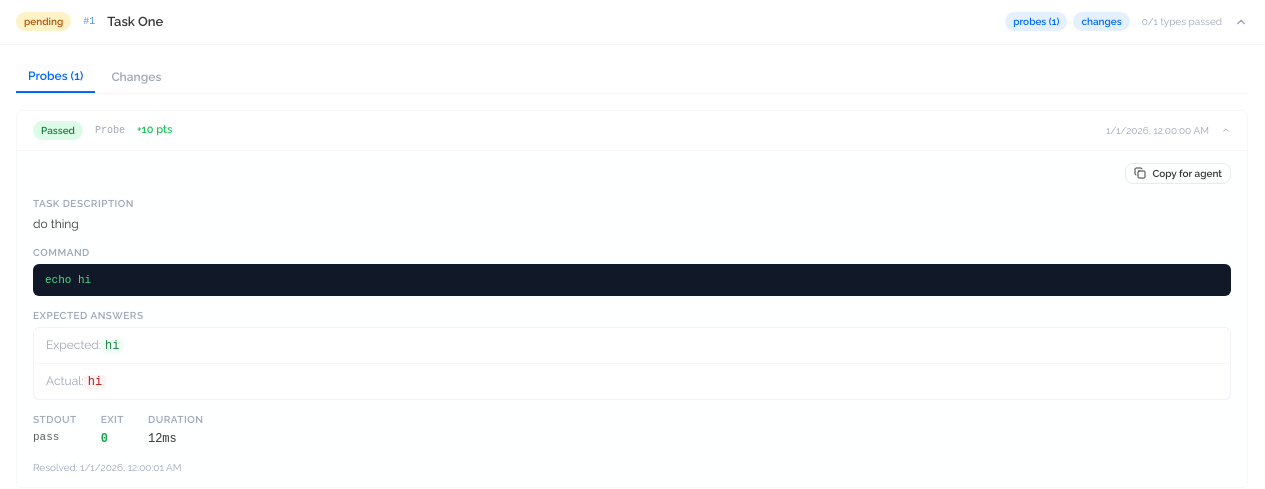
Test: PlayerTaskPanel › tab toggle switches content to Changes
Step 1. Click the tab with test id "tab-changes" → (136, 76), box [99, 60, 173, 92]
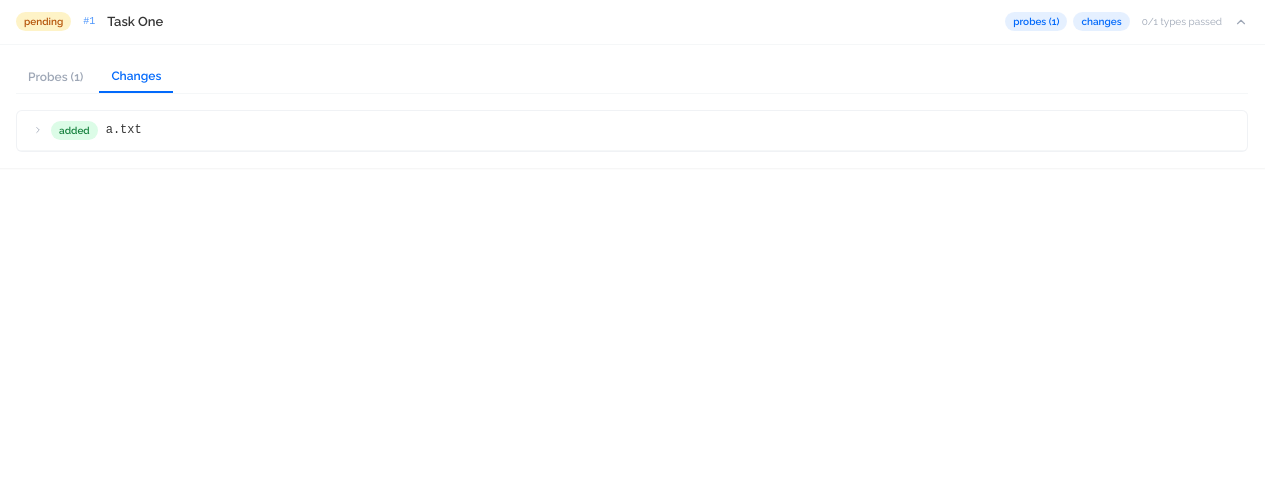
Check: the element with test id "task-changes-1" is shown, box [16, 110, 1248, 152]
